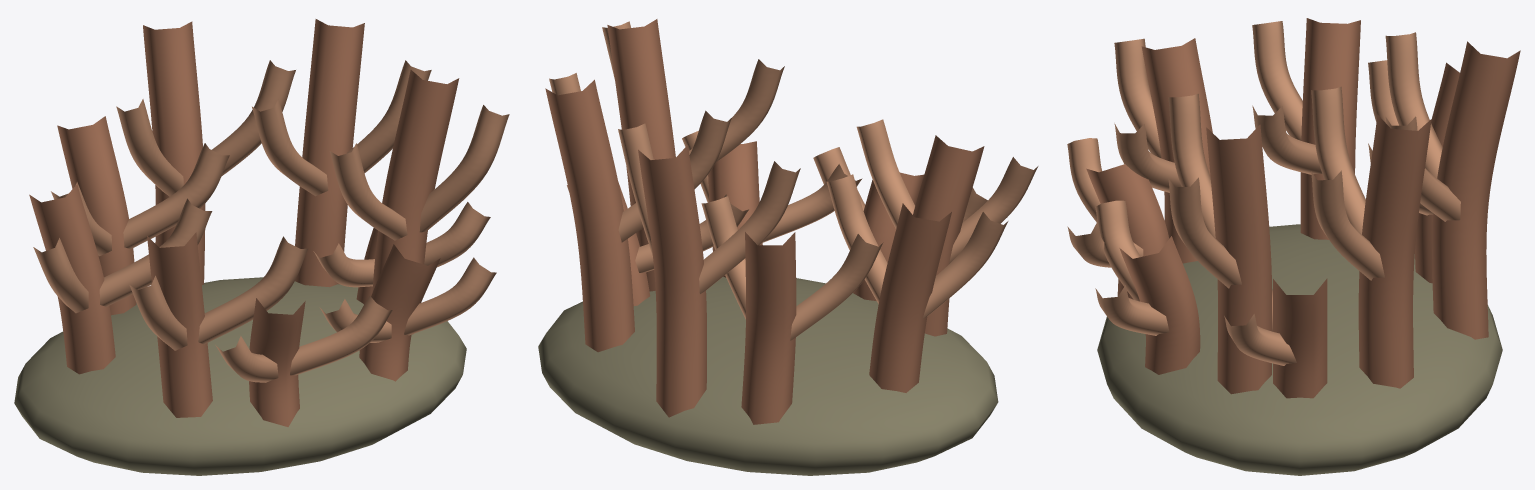
File: coral.glb
3 views of the same model, side by side, from view 1: azimuth 30°, elevation 25°; view 2: azimuth 150°, elevation 25°; view 3: azimuth 270°, elevation 25° (orthographic). The views are drawn at different scales.
Parts seen in each view (by area): view 1: CoralBranchAssembly, ReefBase, CoralTwigAssembly; view 2: CoralBranchAssembly, ReefBase, CoralTwigAssembly; view 3: CoralBranchAssembly, ReefBase, CoralTwigAssembly.
Part boxes in pixels (x1,y1,x2,y2): CoralBranchAssembly: [29, 19, 459, 426]; ReefBase: [14, 277, 466, 475]; CoralTwigAssembly: [33, 60, 509, 382]; CoralBranchAssembly: [545, 19, 984, 424]; ReefBase: [538, 276, 998, 475]; CoralTwigAssembly: [549, 21, 1038, 340]; CoralBranchAssembly: [1086, 18, 1520, 398]; ReefBase: [1097, 224, 1502, 475]; CoralTwigAssembly: [1067, 21, 1460, 365].
Bounding box in the file's own units: 1.38 × 1.02 × 1.12.
